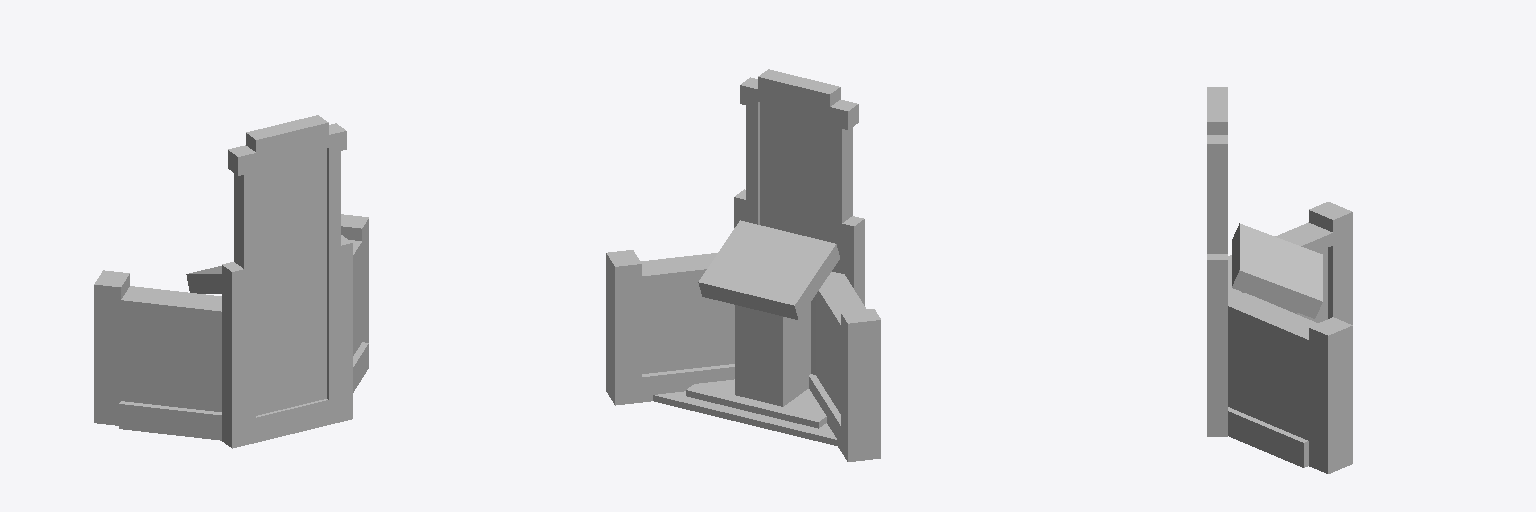
The model's file is reliquary.obj.
3 renders of one model, left to right at view 1: azimuth 30°, elevation 25°; view 2: azimuth 150°, elevation 25°; view 3: azimuth 270°, elevation 25°, orthographic.
Parts seen in each view (by area): view 1: cube; view 2: cube; view 3: cube.
Part boxes in pixels (left/top/right/bottom): cube: left=94, top=115, right=368, bottom=448; cube: left=606, top=69, right=880, bottom=461; cube: left=1207, top=87, right=1352, bottom=473.
Size of the model in its own units: 45.7 by 48 by 20.97.